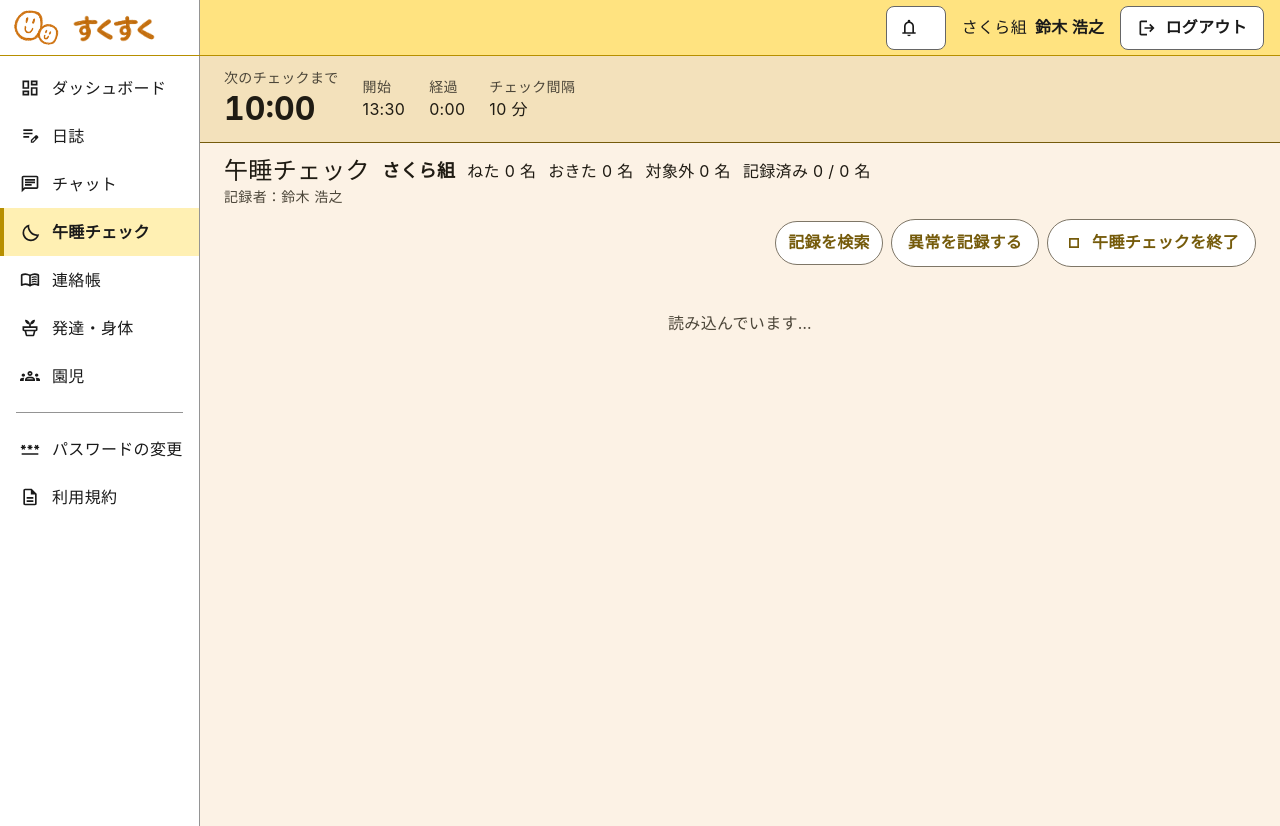
Scenario: 職員のログアウト：午睡チェックの実施中（04-025） › 自分が開始した実施中は、ログアウトせずに止め、先に午睡チェックを終了するよう示す
Expected: the button "午睡チェックを終了" is shown, [1047,219,1256,267]
Click the button "ログアウト".
click(1192, 28)  # box [1120,6,1264,50]
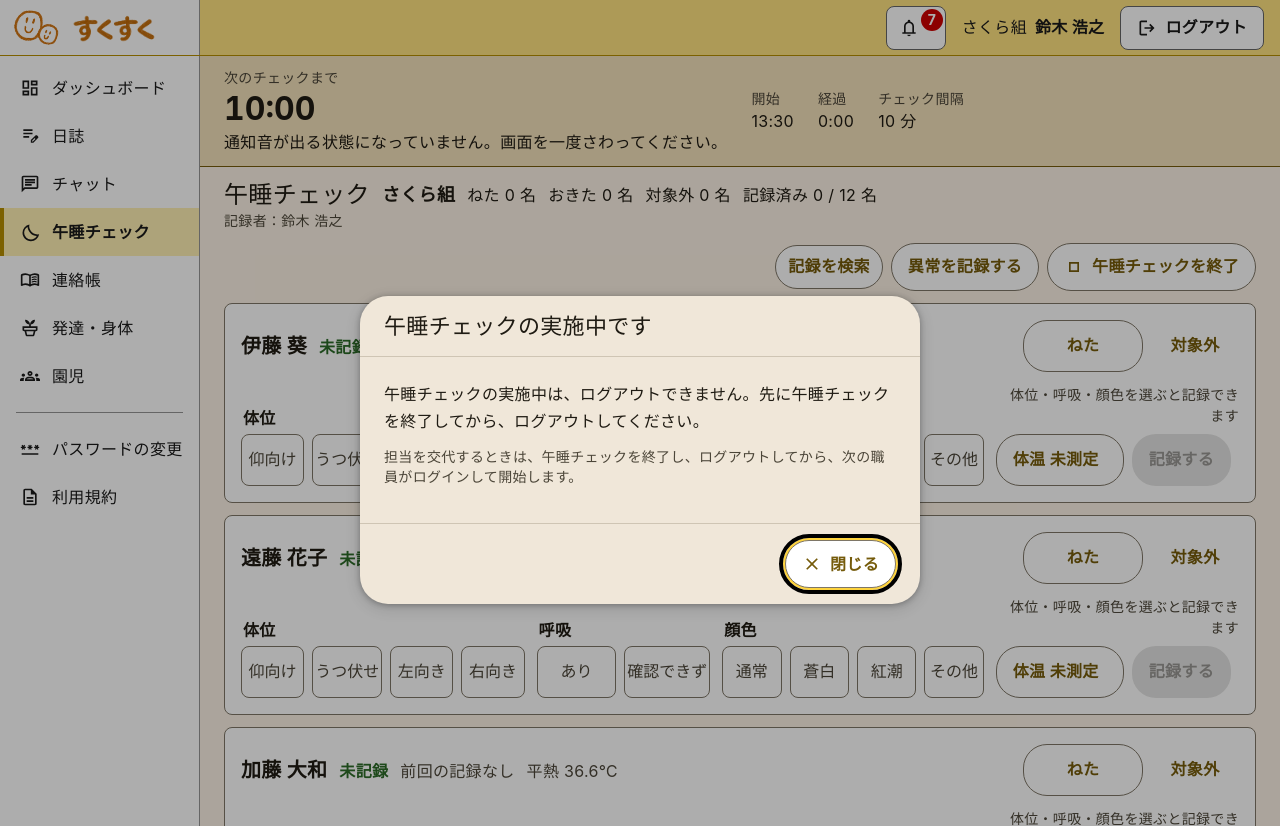
Expected: the dialog "午睡チェックの実施中です" shows "先に午睡チェックを終了してから、ログアウトしてください。", [384,384,890,431]
Click the button "閉じる".
click(840, 564)  # box [785,540,896,588]
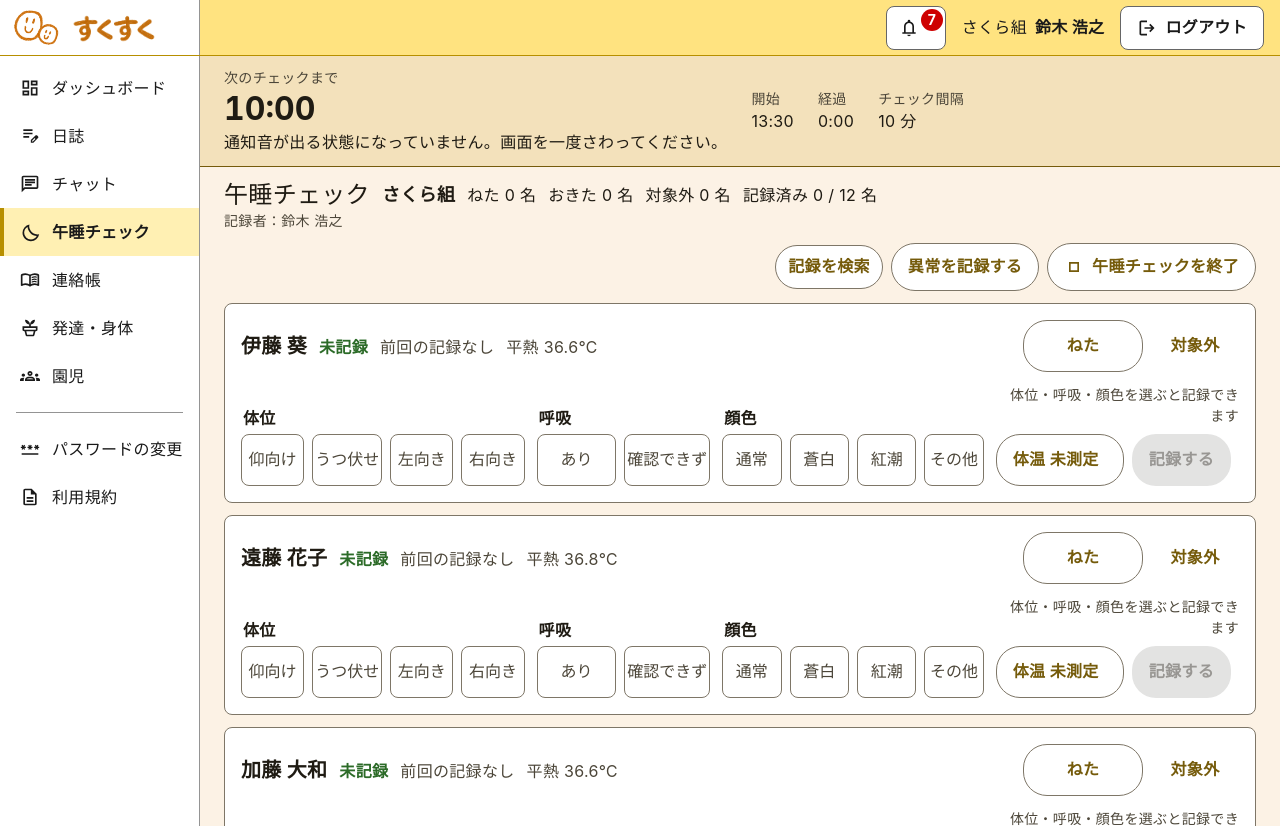
Expected: the text "職員用の入口" is not shown
Expected: the heading "午睡チェックの実施中です" is gone
Click the button "ログアウト".
click(1192, 28)  # box [1120,6,1264,50]
(page scrolled)
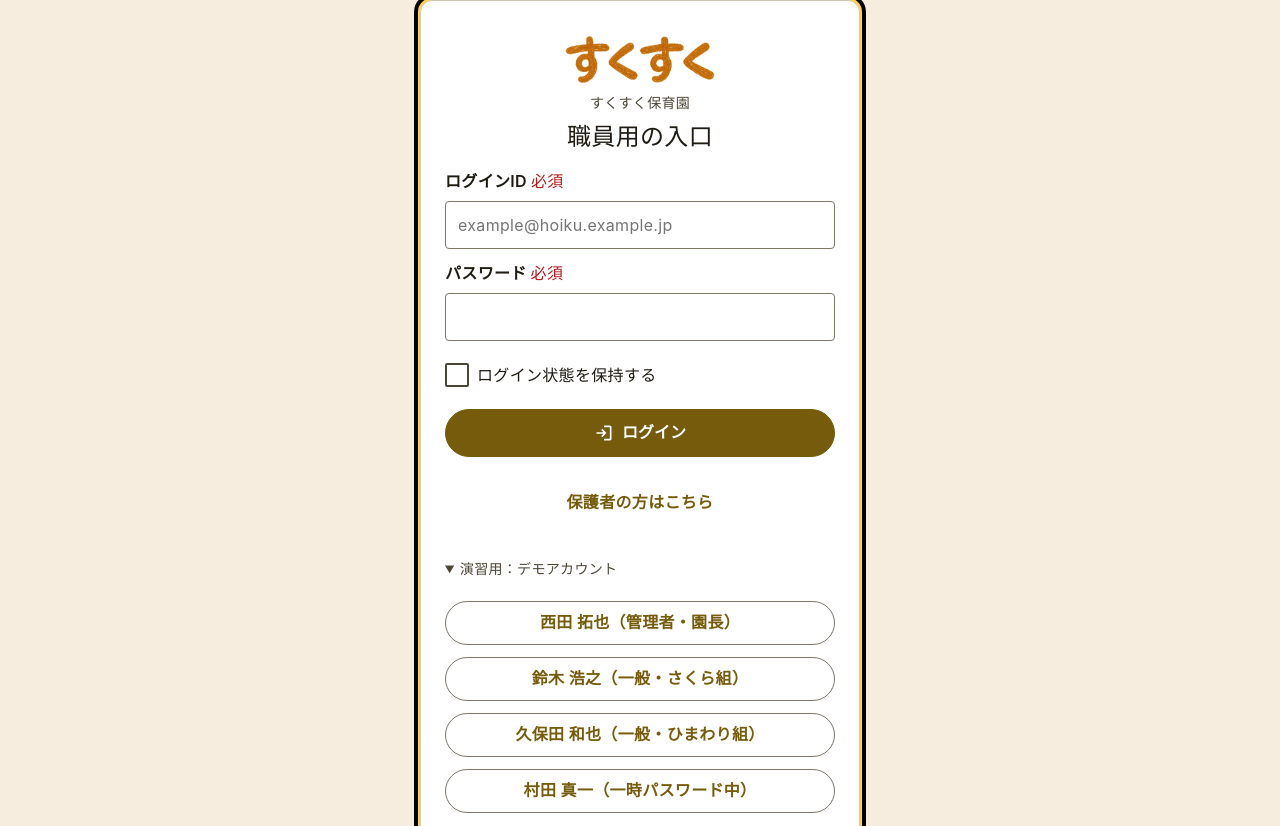
Expected: the heading "職員用の入口" is shown, [567,122,713,151]
